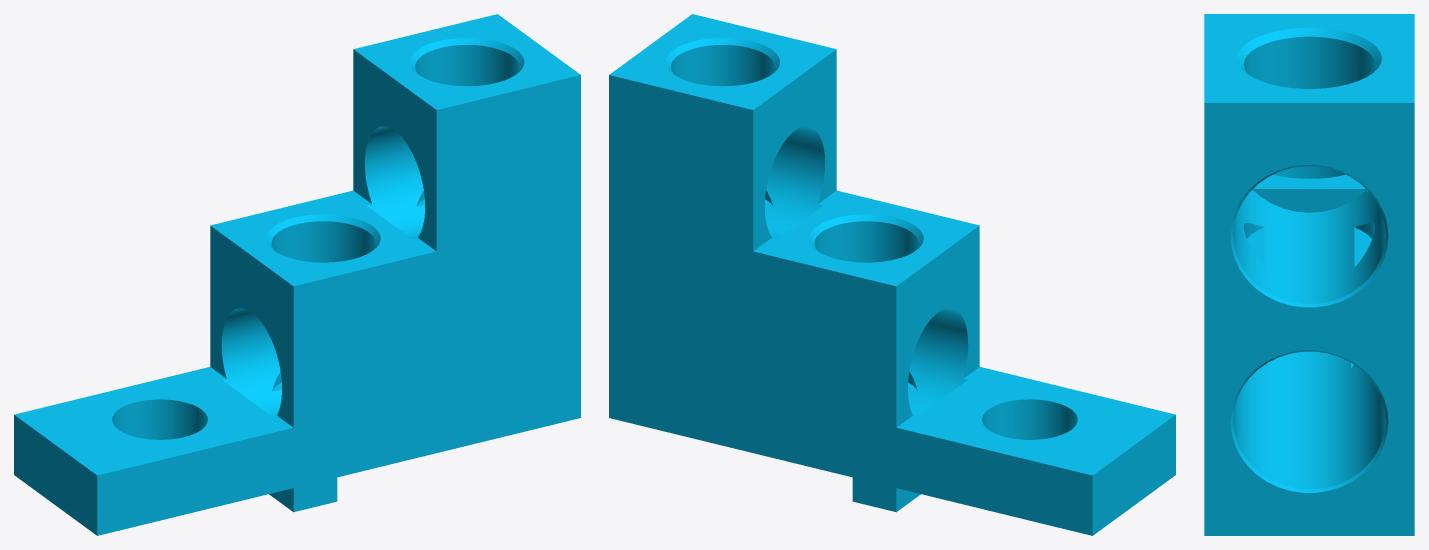
Rendered from lug2.glb.
3 renders of one model, left to right at view 1: azimuth 30°, elevation 25°; view 2: azimuth 150°, elevation 25°; view 3: azimuth 270°, elevation 25°, orthographic. The views are drawn at different scales.
Visible parts, largest first — view 1: Mesh; view 2: Mesh; view 3: Mesh.
Part boxes in pixels (x1,y1,x2,y2): Mesh: (14, 14, 580, 535); Mesh: (609, 14, 1175, 535); Mesh: (1204, 14, 1414, 535).
Size of the model in its own units: 0.0532 by 0.0386 by 0.0159.
